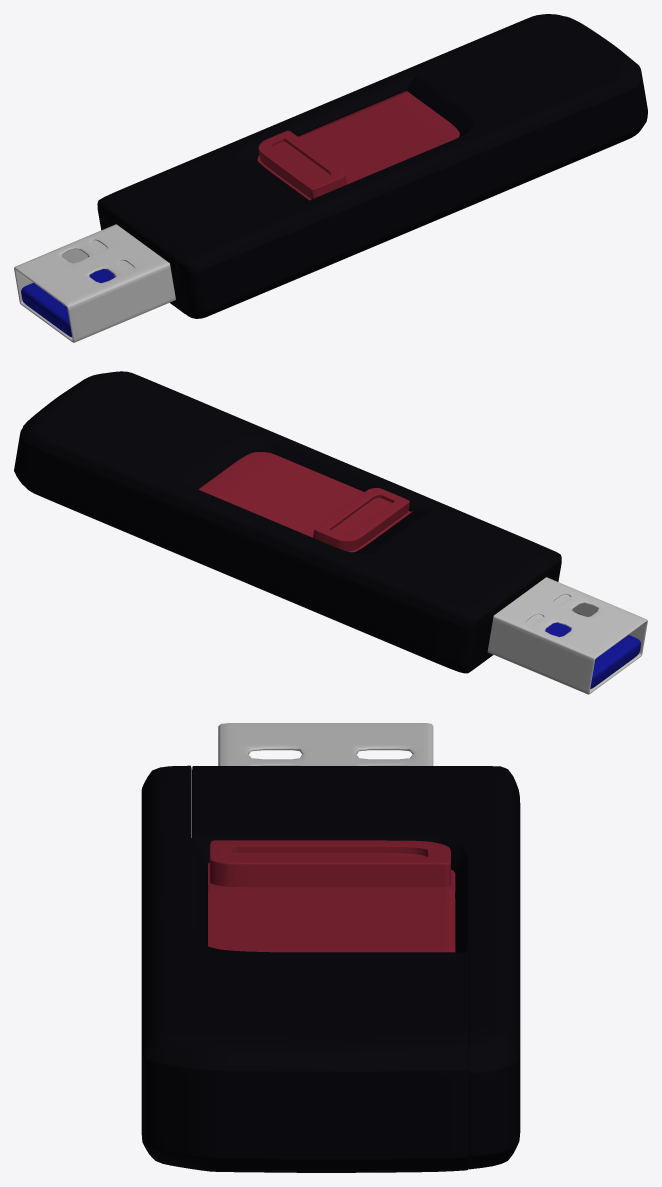
The model's file is FLASHDRIVE_1.fbx.
3 renders of one model, top to bottom at view 1: azimuth 30°, elevation 25°; view 2: azimuth 150°, elevation 25°; view 3: azimuth 270°, elevation 25°, orthographic. The views are drawn at different scales.
Visible parts, largest first — view 1: FrontShell1; view 2: FrontShell1; view 3: FrontShell1.
Part boxes in pixels (x1=…): FrontShell1: x1=14, y1=14, x2=647, y2=342; FrontShell1: x1=14, y1=371, x2=647, y2=694; FrontShell1: x1=141, y1=723, x2=520, y2=1172.
Size of the model in its own units: 15.41 by 3.78 by 4.41.
